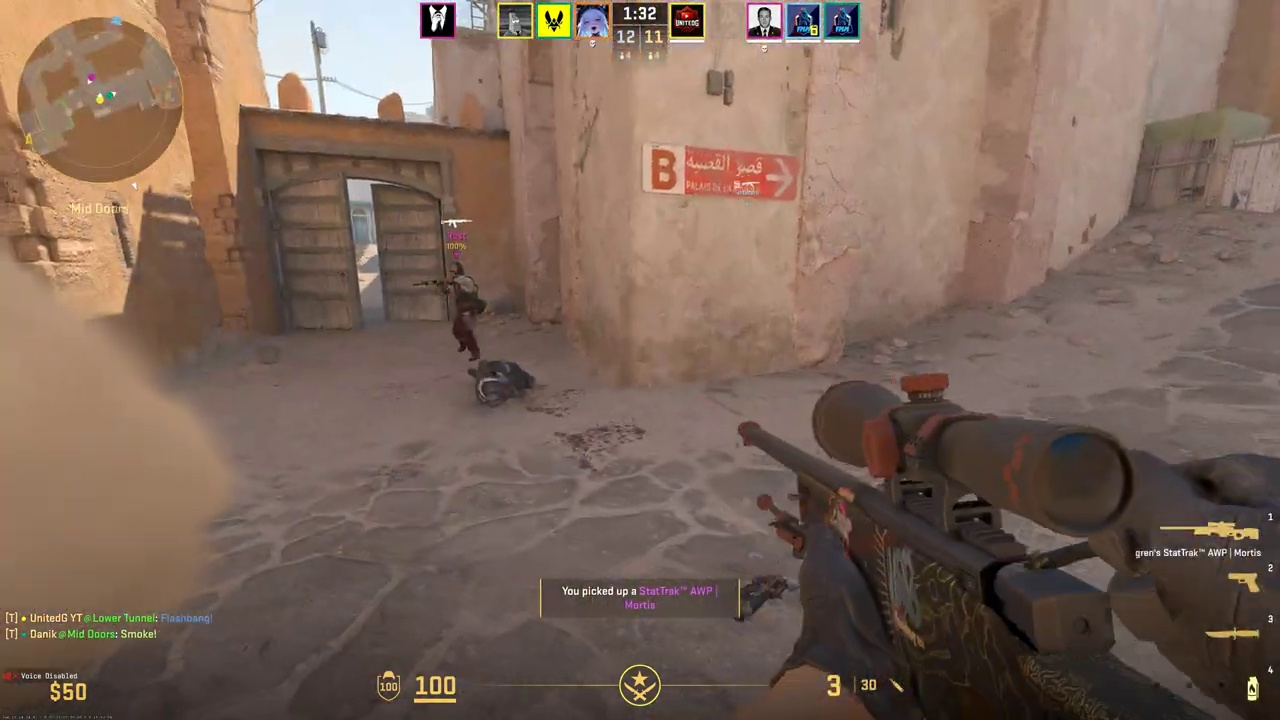Terrorist: (449, 262, 477, 356)
